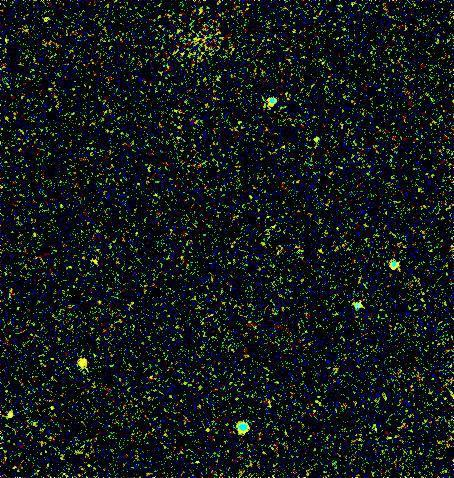star: (68, 349, 98, 379)
